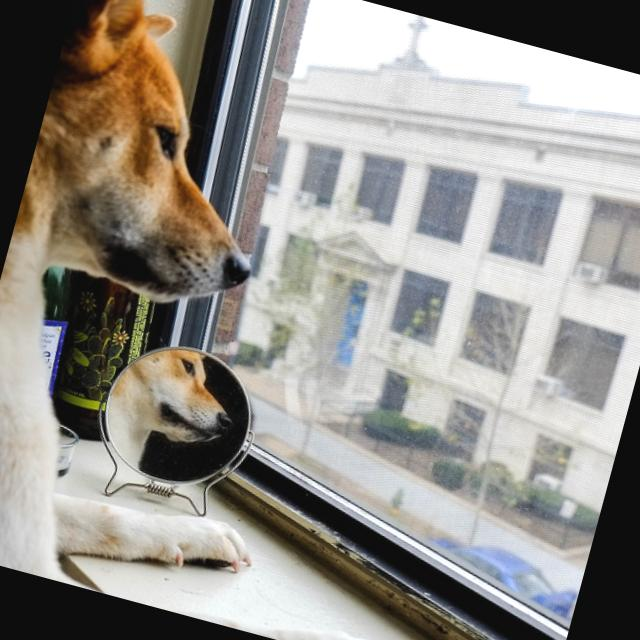Vehicle: (413, 526, 584, 623)
